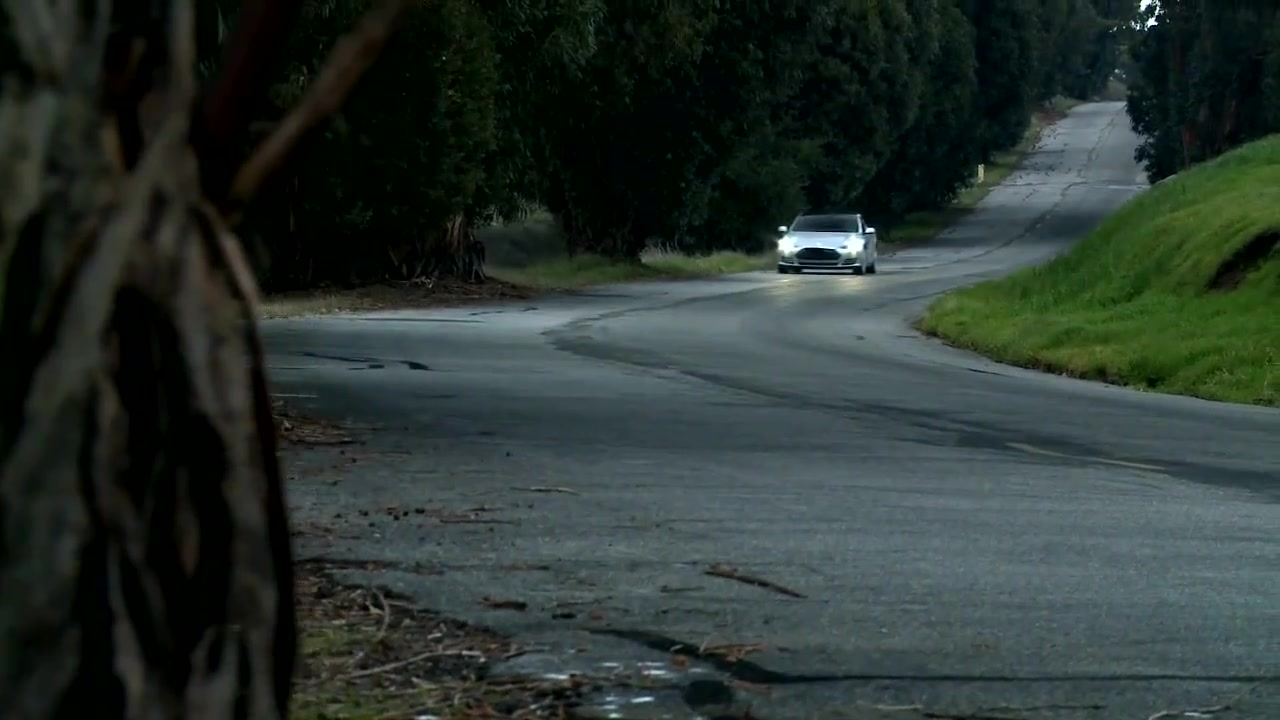car: (776, 210, 883, 277)
